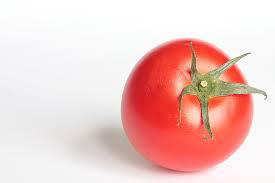tomato: (118, 37, 251, 167)
